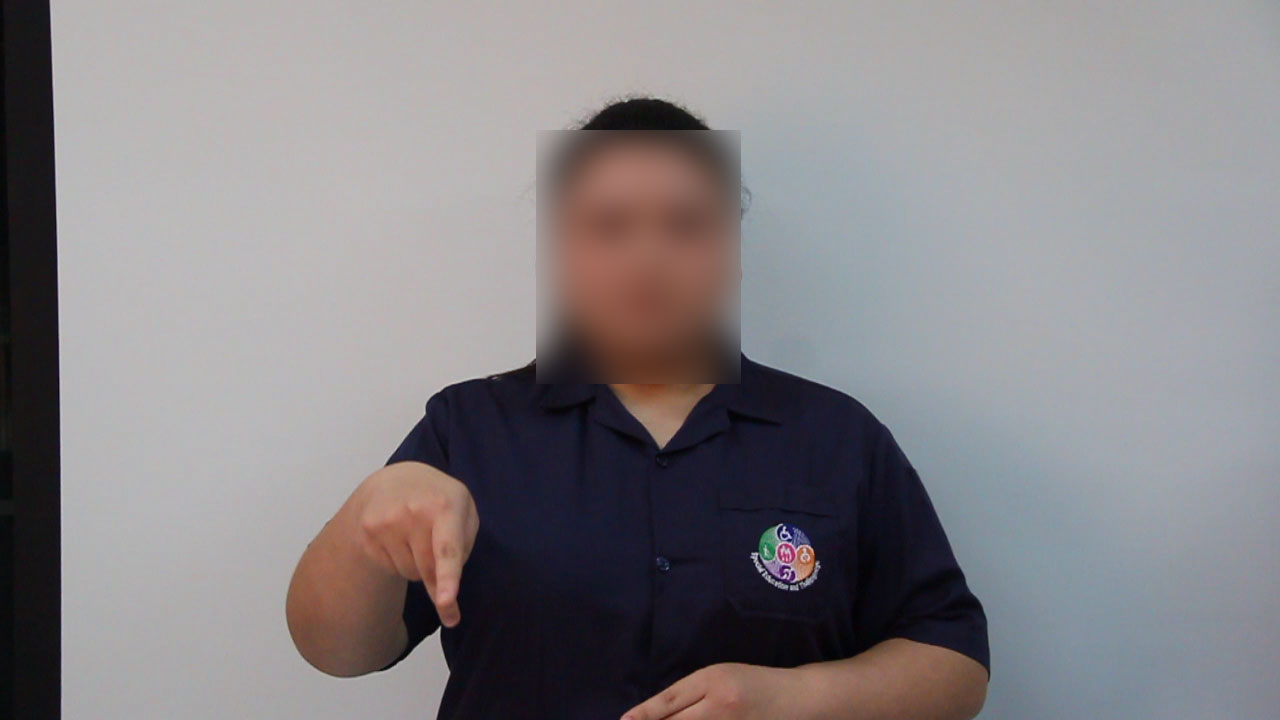por: (338, 439, 492, 645)
